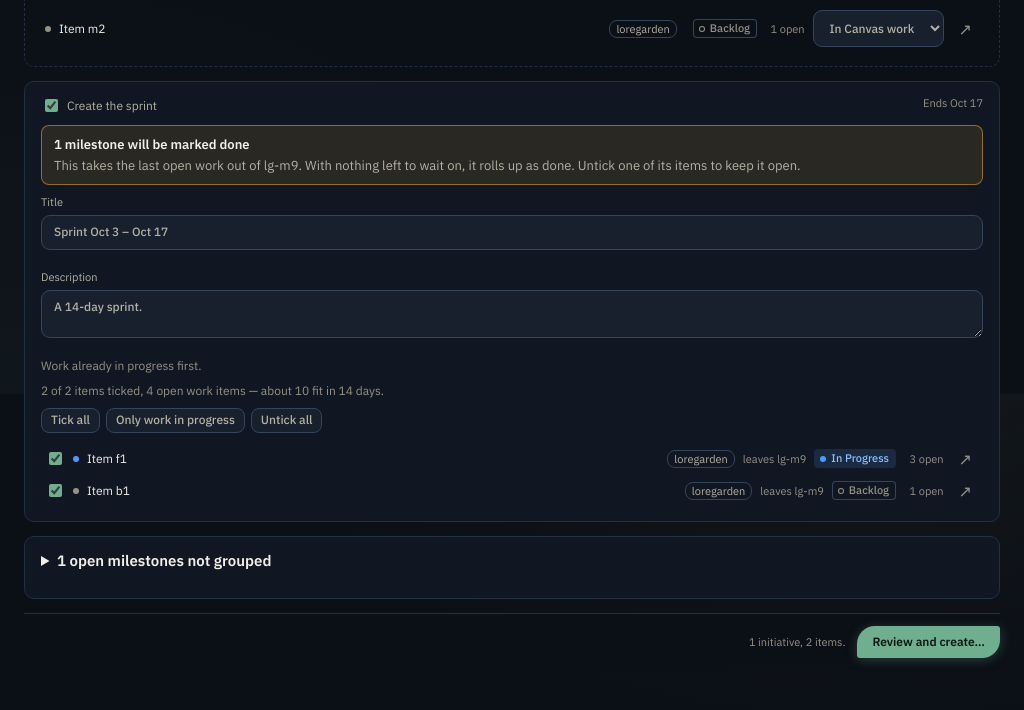
Scenario: the sprint trims in bulk, and the warning drops once a milestone keeps open work
(page scrolled)
Expected: the message shows "1 milestone will be marked done", [54, 136, 250, 153]
Expected: the text "Ends Oct 17" is shown, [923, 96, 983, 110]
Click the button "Only work in progress" at [175, 420], box [106, 408, 245, 433]
(page scrolled)
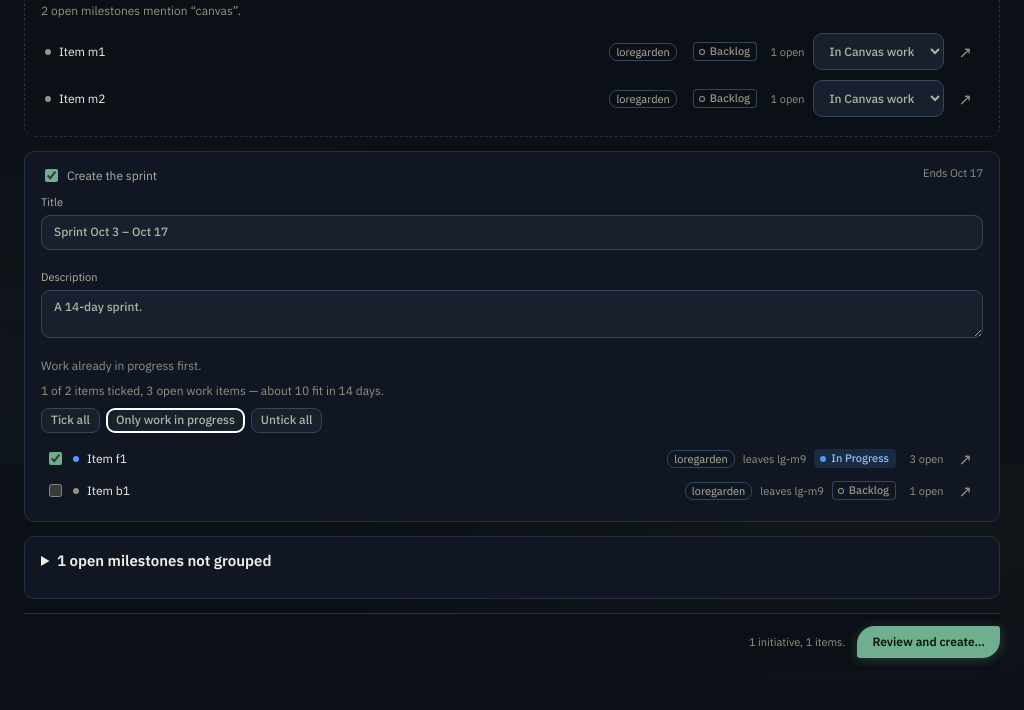
Expected: the checkbox labelled "Item b1 loregarden leaves lg-m9 Backlog 1 open" is not checked, [49, 484, 62, 497]
Expected: the text "will be marked done" is gone
Expected: the text "1 of 2 items ticked, 3 open work items" is shown, [41, 383, 384, 398]
